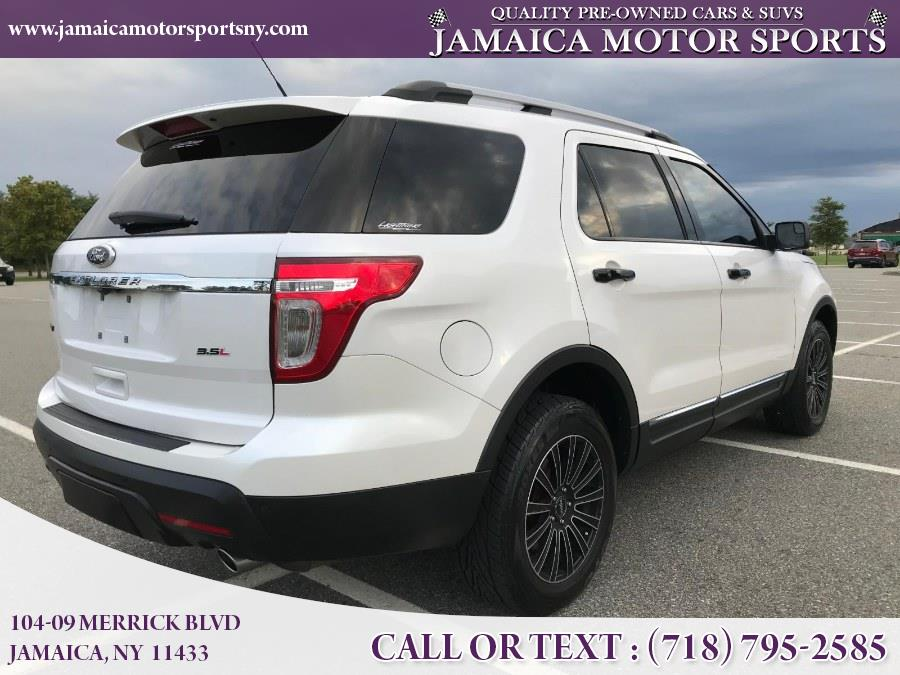Ford Explorer: (33, 81, 838, 616)
